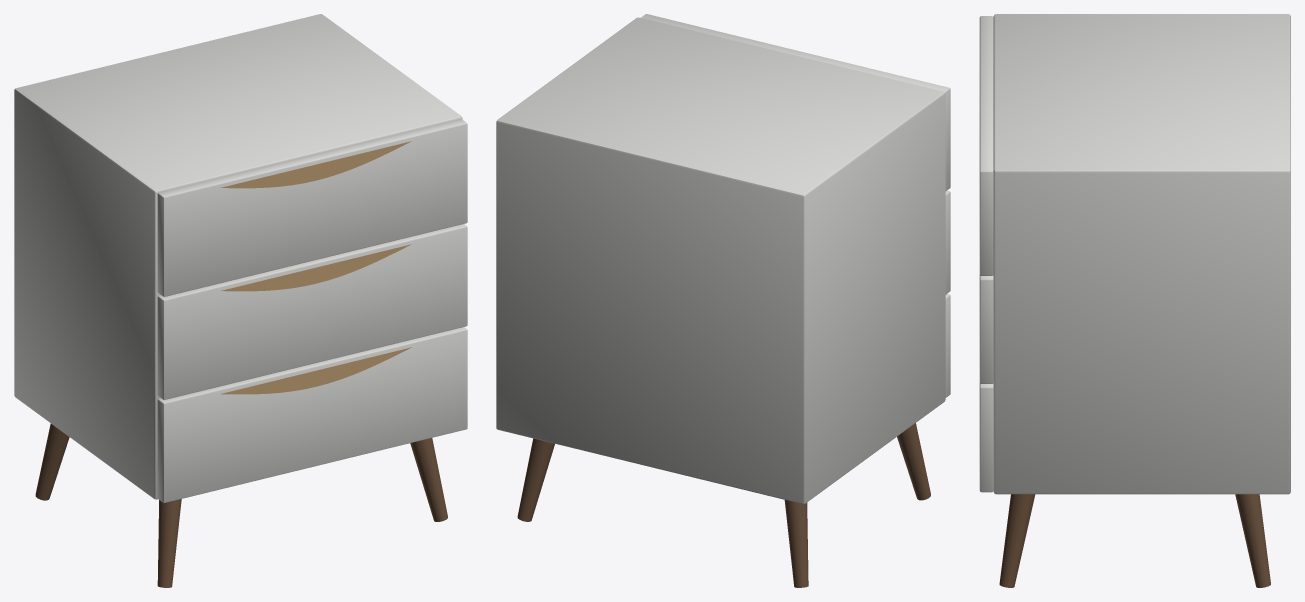
File: recvJ8DX2Bpk5Hb9p.glb
The picture shows the model from 3 angles, left to right: view 1: azimuth 30°, elevation 25°; view 2: azimuth 150°, elevation 25°; view 3: azimuth 270°, elevation 25°; orthographic projection. The views are drawn at different scales.
Parts seen in each view (by area): view 1: Chevet_1_Corps; view 2: Chevet_1_Corps; view 3: Chevet_1_Corps.
Boxes of the visible parts, x1,y1,x2,y2 form: Chevet_1_Corps: (14, 14, 467, 587); Chevet_1_Corps: (496, 14, 950, 587); Chevet_1_Corps: (979, 14, 1290, 587).
Size of the model in its own units: 0.48 by 0.6024 by 0.4008.
